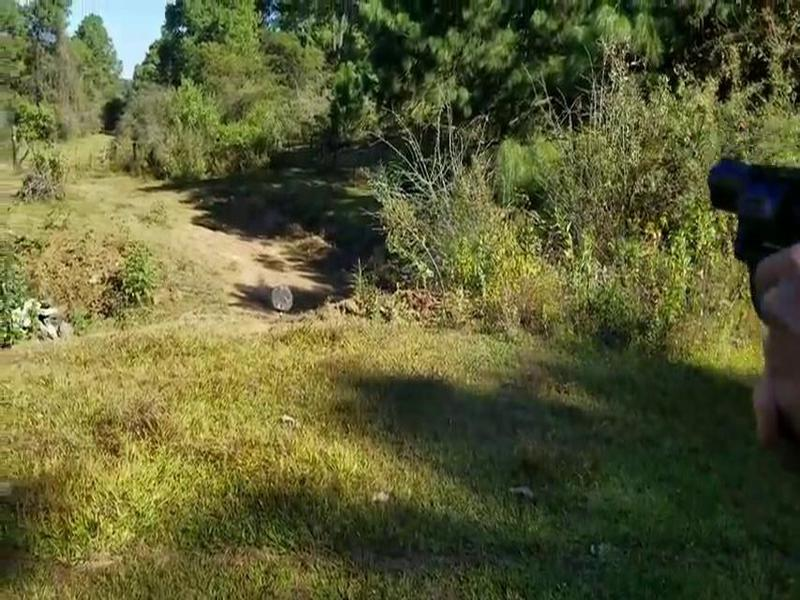Revolver: (672, 144, 800, 289)
